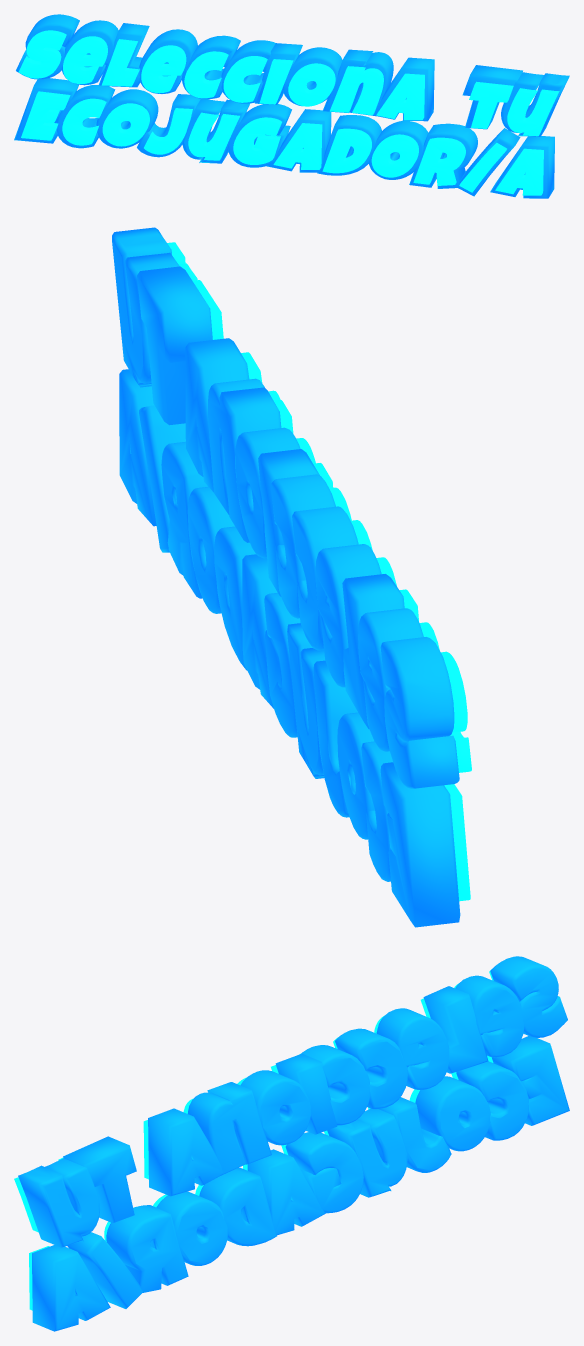
Rendered from Selecciona.fbx.
The picture shows the model from 3 angles, top to bottom: view 1: azimuth 30°, elevation 25°; view 2: azimuth 150°, elevation 25°; view 3: azimuth 270°, elevation 25°; orthographic projection. The views are drawn at different scales.
Parts seen in each view (by area): view 1: Text_001, Text; view 2: Text, Text_001; view 3: Text, Text_001.
Boxes of the visible parts, <box> form: Text_001: <box>18,30,559,195</box>; Text: <box>14,14,569,198</box>; Text: <box>112,227,460,927</box>; Text_001: <box>167,242,471,901</box>; Text: <box>18,956,569,1331</box>; Text_001: <box>14,969,493,1310</box>.
Size of the model in its own units: 309 by 103 by 306.
